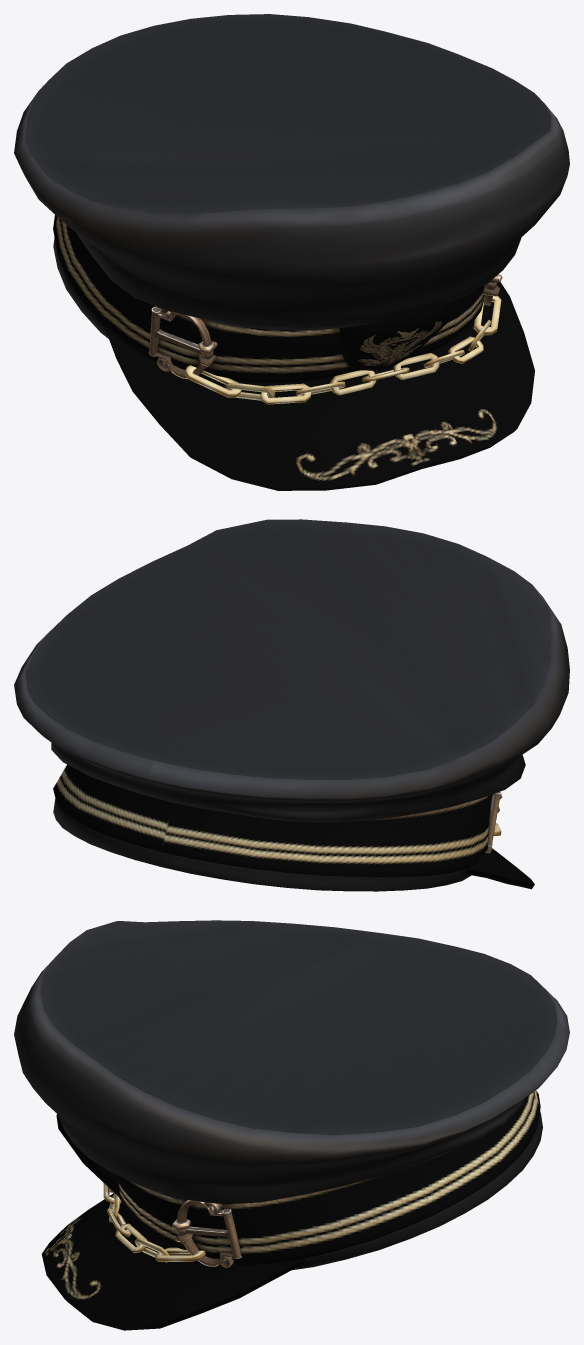
File: NanaseNoir_Aegis_Hat_Ver,1.0.0.fbx
The picture shows the model from 3 angles, top to bottom: view 1: azimuth 30°, elevation 25°; view 2: azimuth 150°, elevation 25°; view 3: azimuth 270°, elevation 25°; orthographic projection. The views are drawn at different scales.
Visible parts, largest first — view 1: Hat; view 2: Hat; view 3: Hat.
Part boxes in pixels (box(x1,y1,x2,y2)): Hat: box(14, 14, 569, 490); Hat: box(14, 519, 569, 891); Hat: box(14, 920, 569, 1330).
Size of the model in its own units: 25.29 by 14.95 by 27.13.
